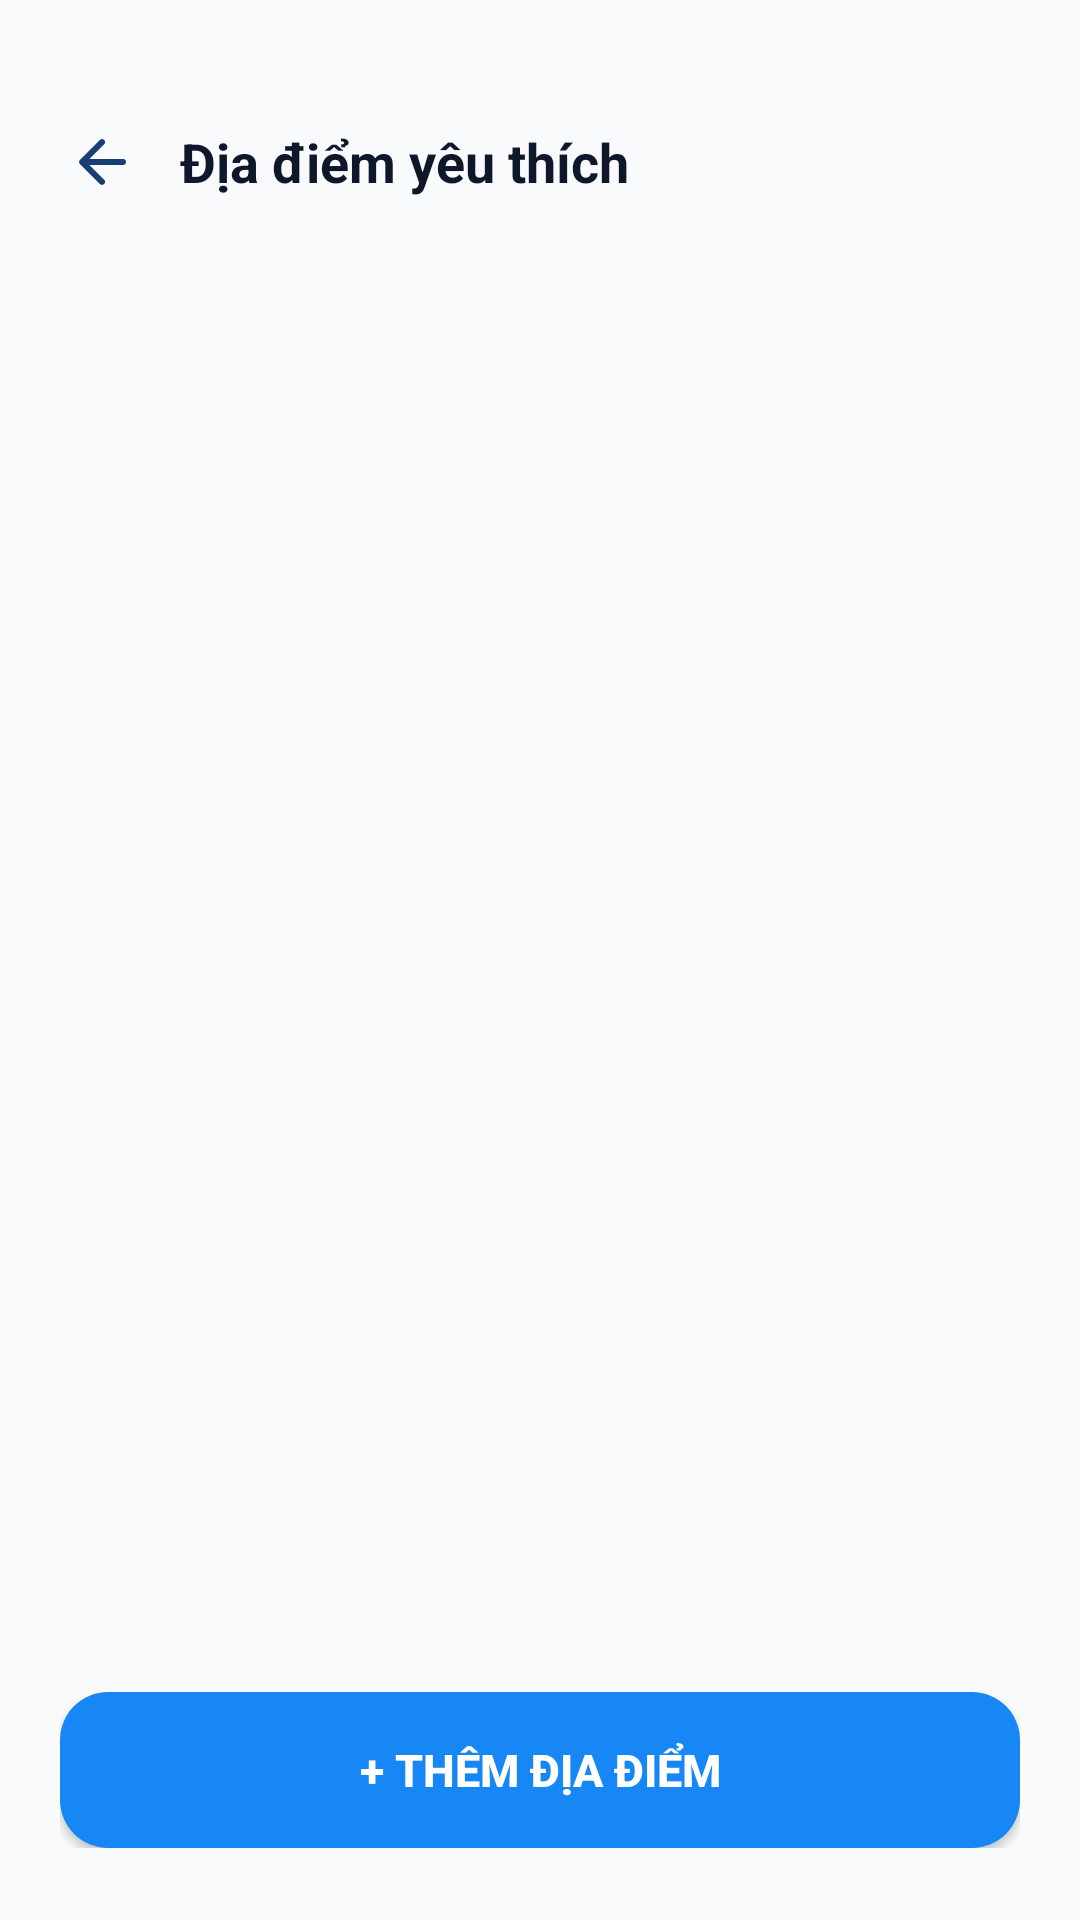

Where icons sit on this 1080 × 1920 app screen, as [x1,y1,x2,y2]:
Back: [79,139,126,185]
